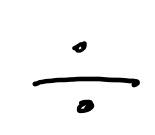div: (31, 41, 140, 113)
